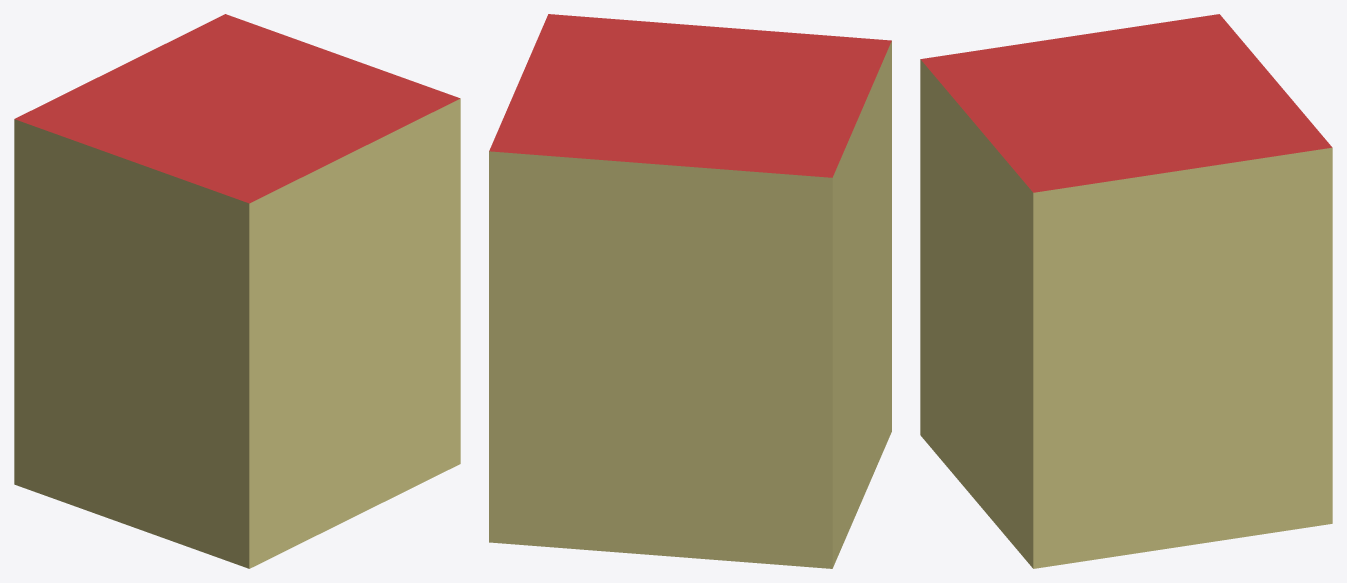
3 views of the same model, side by side, from view 1: azimuth 30°, elevation 25°; view 2: azimuth 150°, elevation 25°; view 3: azimuth 270°, elevation 25° (orthographic). The views are drawn at different scales.
Size of the model in its own units: 6.57 by 6.4 by 6.44.
